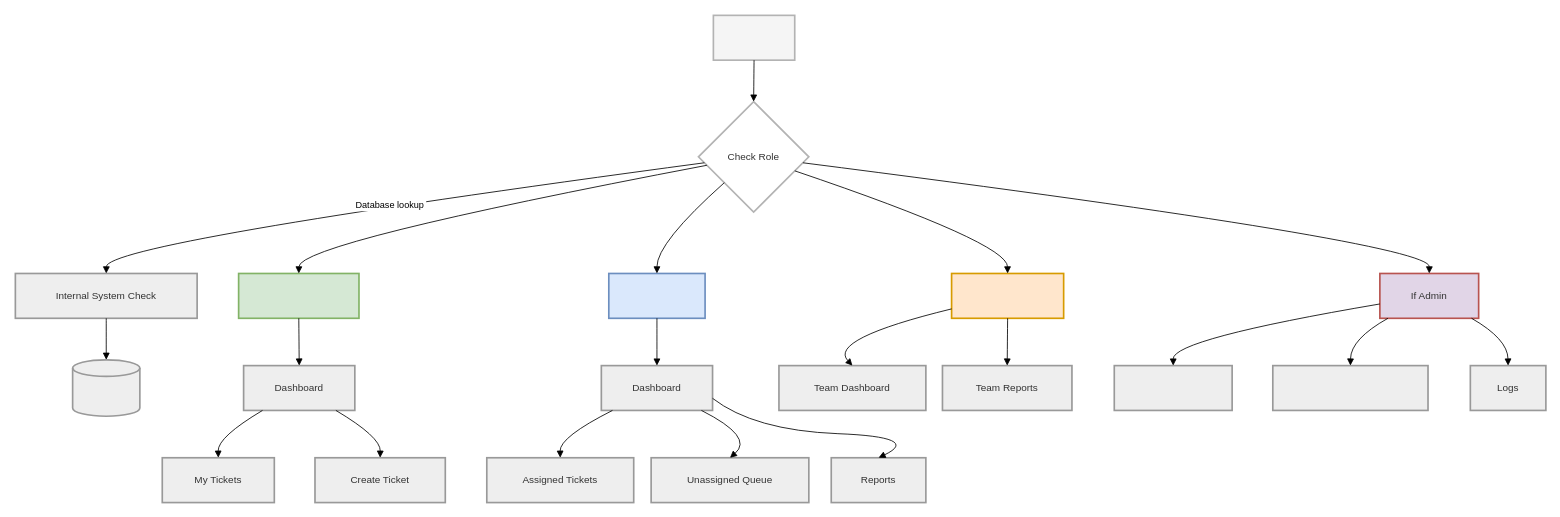
Image size: 1560x517. Some labels were removed from this diagram. Here are the shapes that lost their labels. From the top down, the centre of each, then its label:
point (753, 37): Login
point (298, 295): If Employee
point (657, 295): If Agent
point (1007, 295): If Manager
point (105, 388): Database
point (1173, 387): Full System
point (1350, 387): User Management
